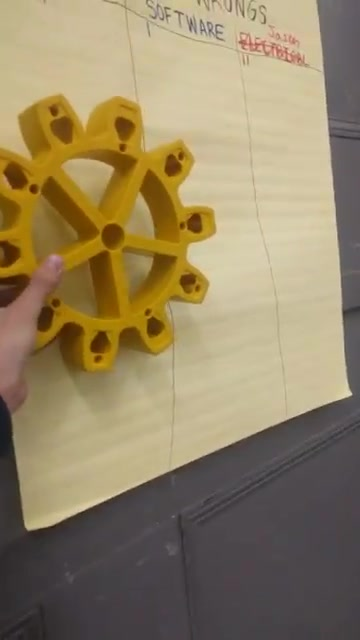gear: (1, 88, 219, 367)
